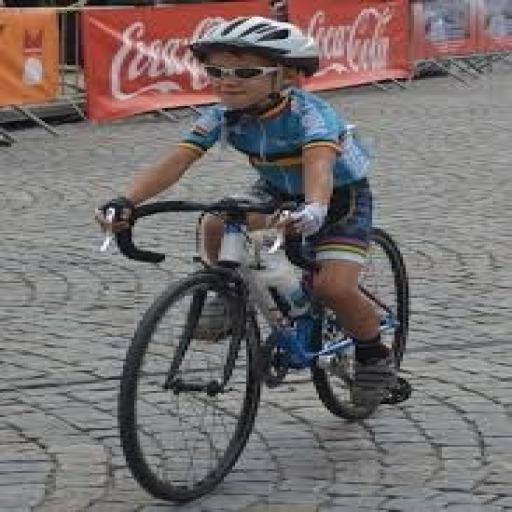cycling: (92, 15, 414, 404)
